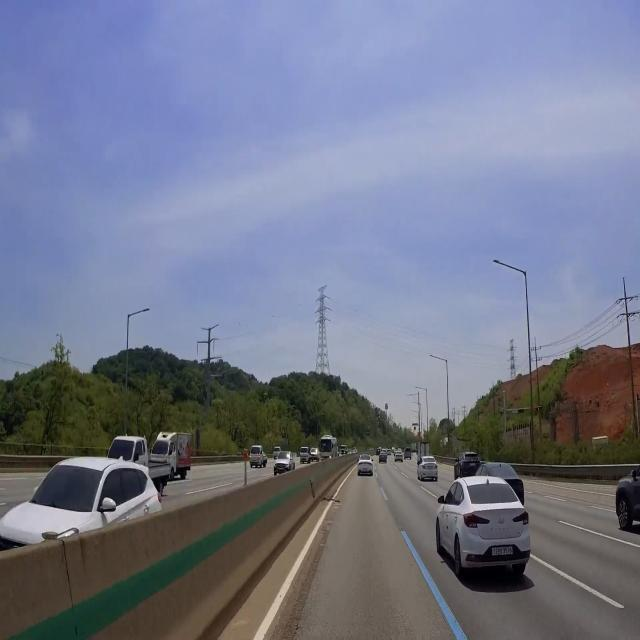car: (489, 543, 516, 557), (426, 466, 434, 471), (468, 462, 476, 467), (362, 467, 368, 472), (278, 466, 284, 471)
